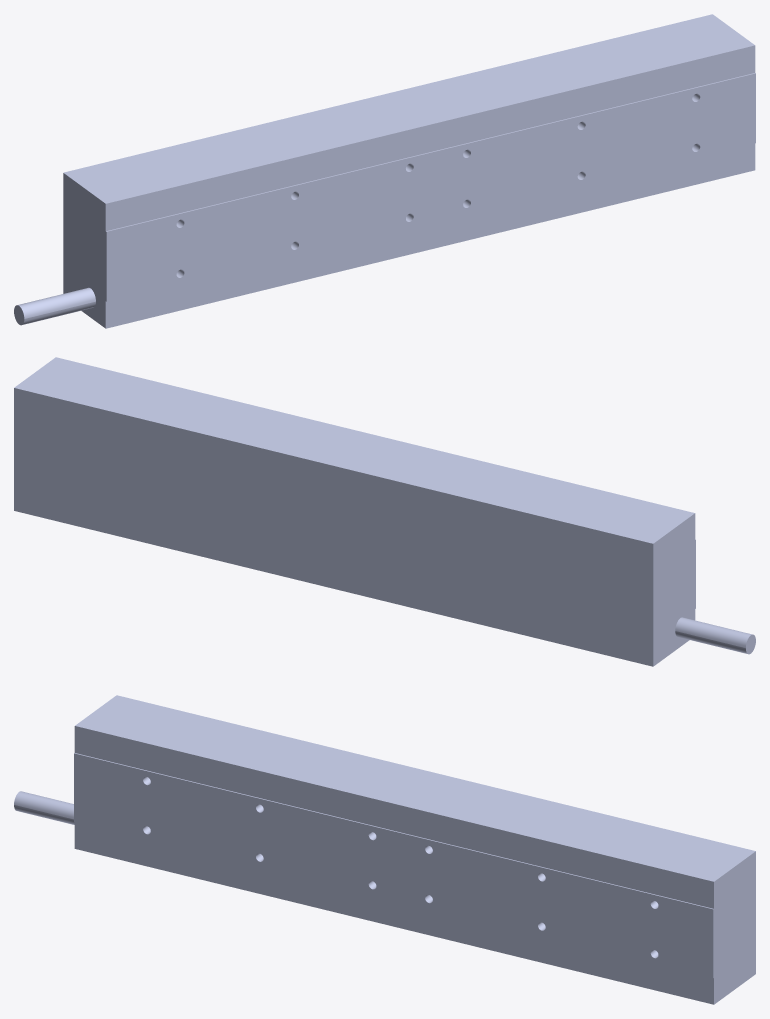
File: MTA-15.glb
3 views of the same model, one above another, from view 1: azimuth 30°, elevation 25°; view 2: azimuth 150°, elevation 25°; view 3: azimuth 330°, elevation 25° (orthographic).
Parts seen in each view (by area): view 1: MTA-15_node_1; view 2: MTA-15_node_1; view 3: MTA-15_node_1.
Part boxes in pixels (<box>): MTA-15_node_1: <box>14,14,755,328</box>; MTA-15_node_1: <box>14,357,755,666</box>; MTA-15_node_1: <box>14,695,755,1004</box>.
Bounding box in the file's own units: 302 × 50 × 31.4.
